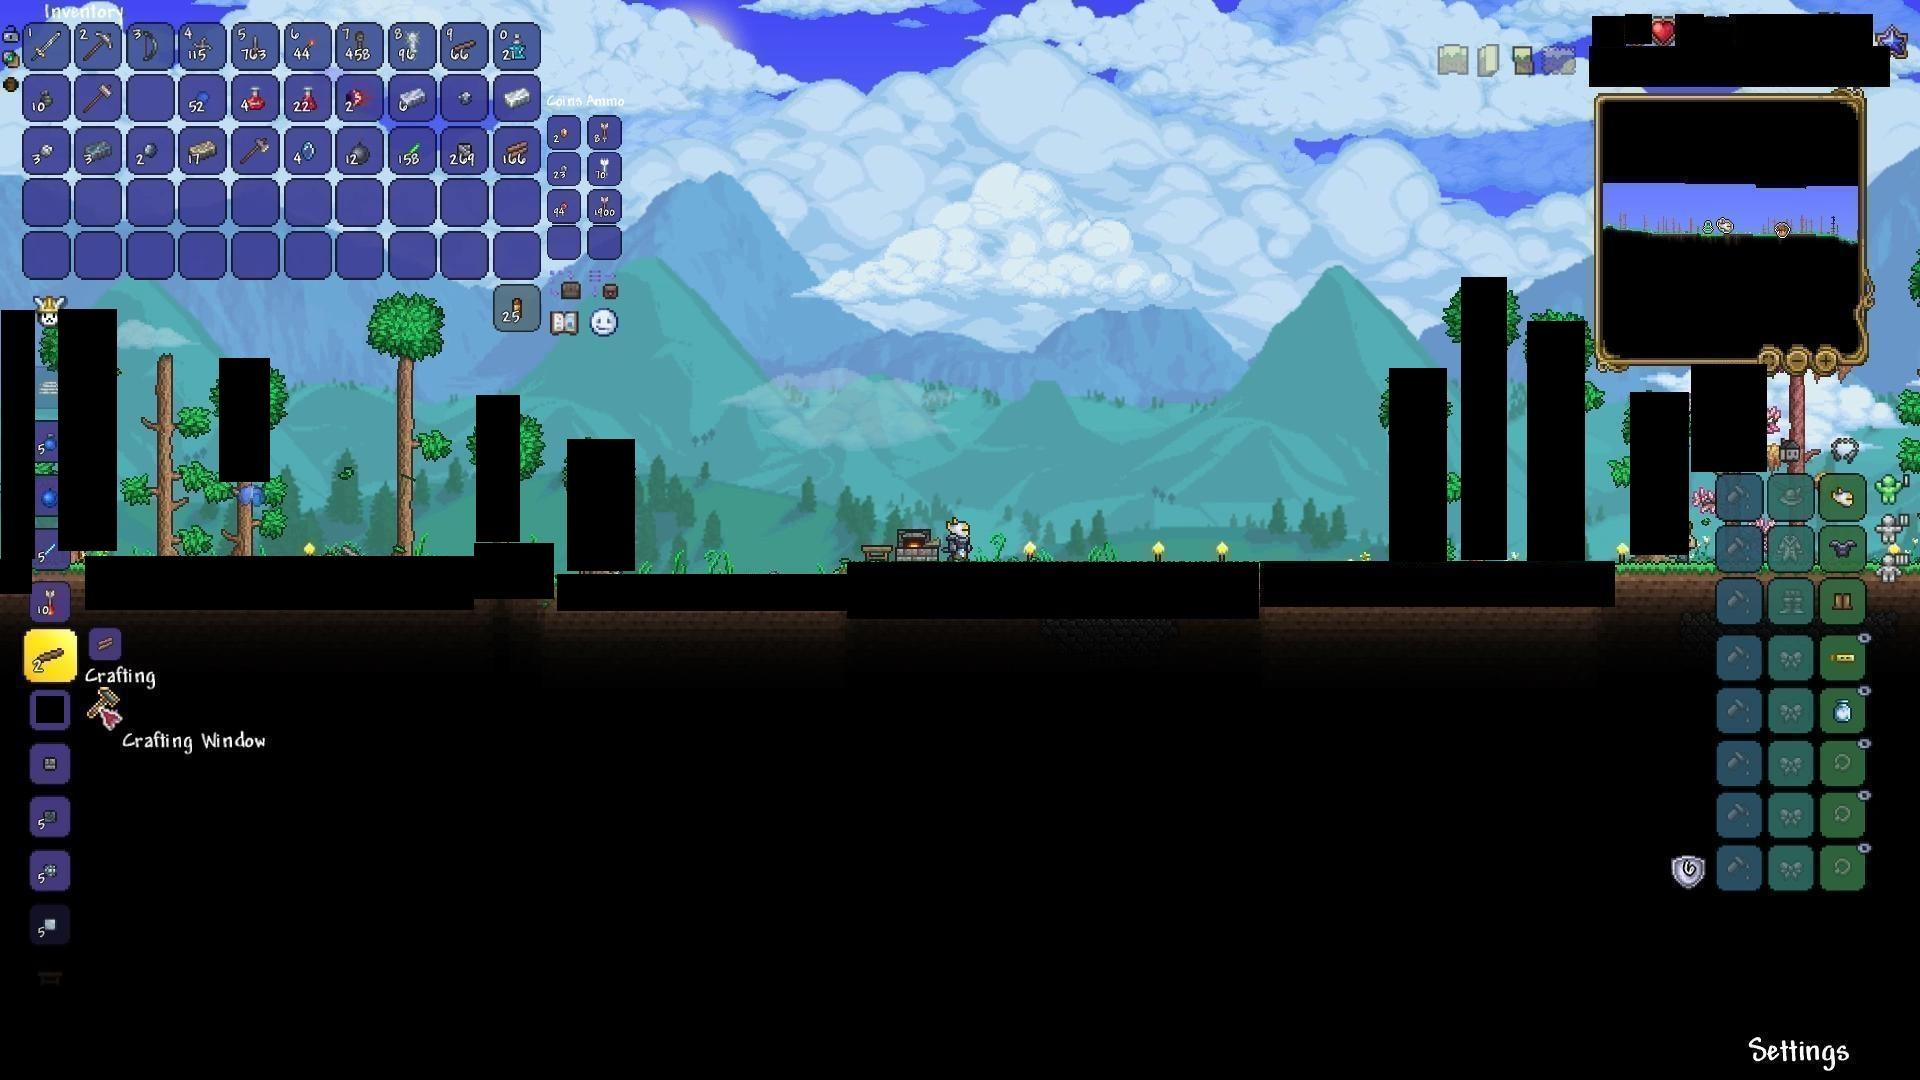breastplate: (1830, 539, 1858, 559)
dirt: (1621, 556, 1713, 600)
heart: (1650, 16, 1676, 49)
helmet: (1829, 485, 1858, 510)
legs: (1830, 589, 1857, 615)
slime: (232, 484, 266, 509)
tree: (372, 297, 429, 553), (152, 347, 195, 553)
wood: (501, 135, 531, 164), (90, 630, 119, 658)
workbench: (856, 541, 893, 566)
